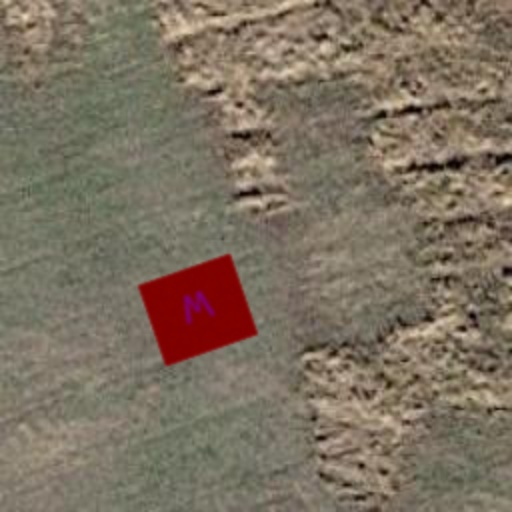rectangle: (134, 246, 262, 374)
